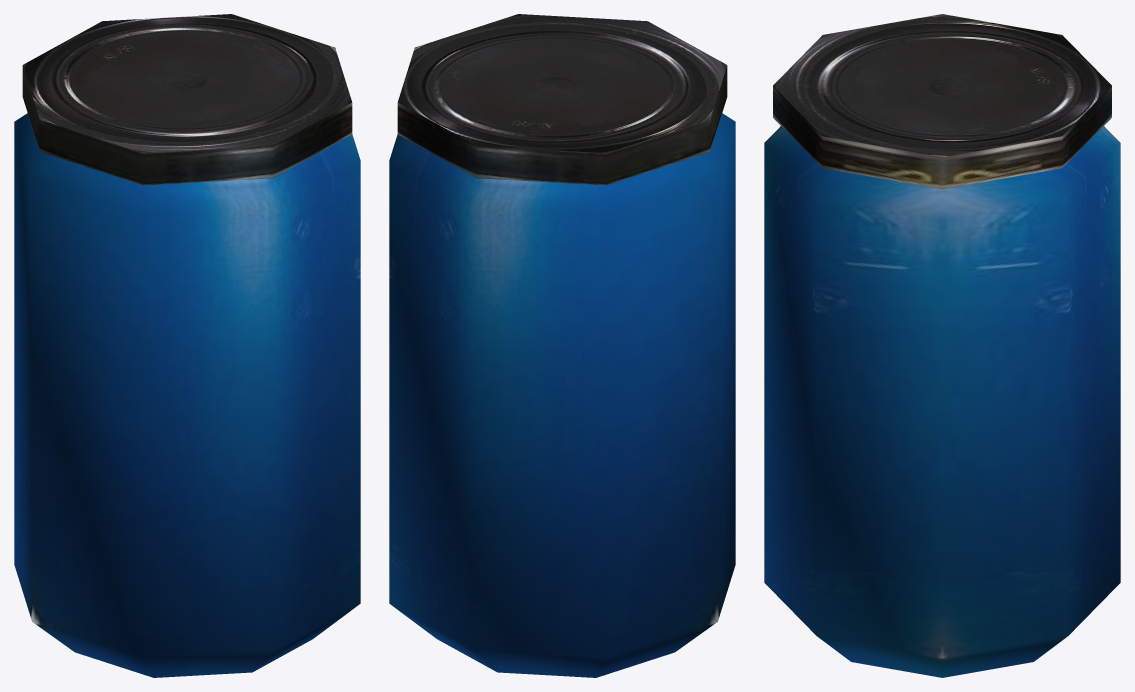
The model's file is barrel.fbx.
The picture shows the model from 3 angles, left to right: view 1: azimuth 30°, elevation 25°; view 2: azimuth 150°, elevation 25°; view 3: azimuth 270°, elevation 25°; orthographic projection.
Visible parts, largest first — view 1: barrel; view 2: barrel; view 3: barrel.
Boxes of the visible parts, bbox=[...] form: barrel: bbox=[14, 14, 360, 677]; barrel: bbox=[389, 14, 735, 677]; barrel: bbox=[764, 14, 1120, 677].
Bounding box in the file's own units: 200 × 333 × 200.
